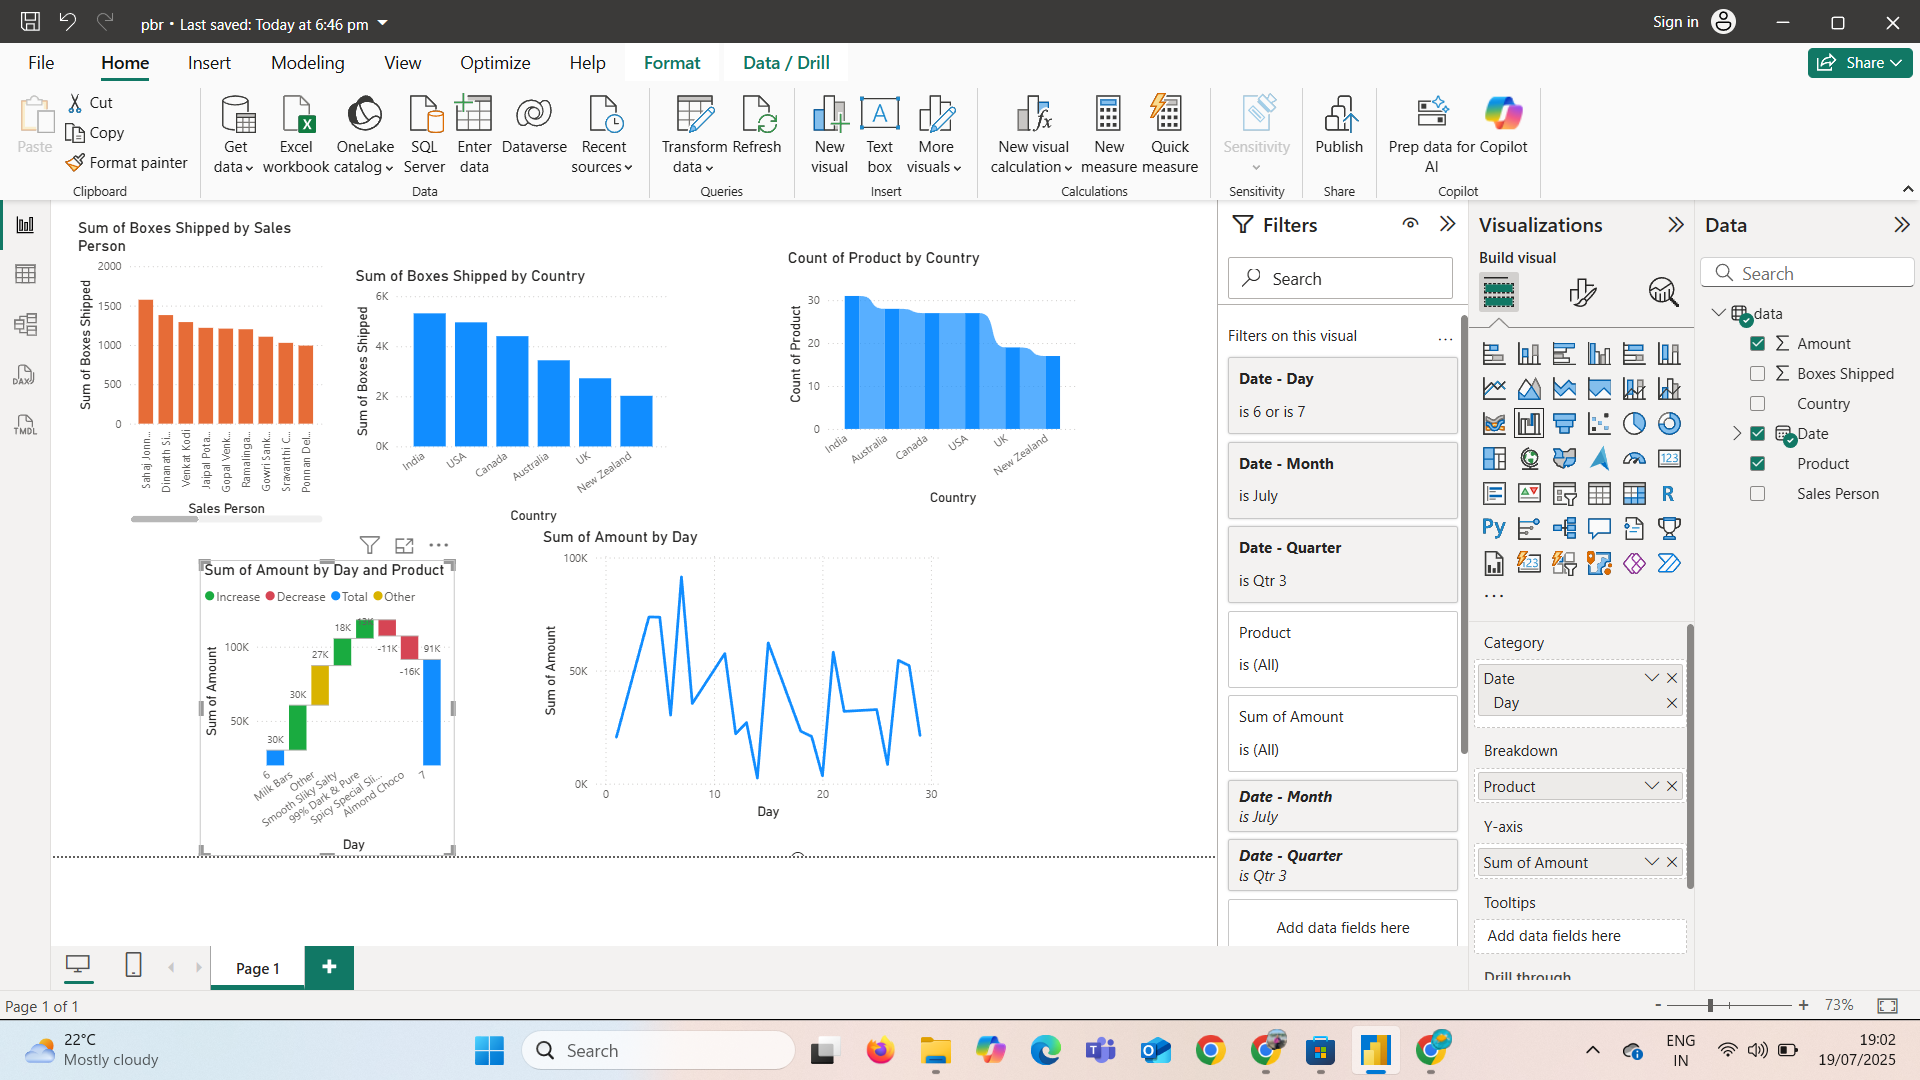

This screenshot's page, from the dashboard's own definition file:
{"tool":"powerbi","page":{"name":"Page 1","canvas":[1280,720],"ordinal":0},"visuals":[{"type":"columnChart","fields":{"Category":["data.Sales Person"],"Y":["Sum(data.Boxes Shipped)"]},"box":[24.7,20.6,278.6,338.9],"z":0},{"type":"columnChart","fields":{"Category":["data.Country"],"Y":["Sum(data.Boxes Shipped)"]},"box":[329.3,72.7,355.4,286.8],"z":1},{"type":"ribbonChart","fields":{"Category":["data.Country"],"Y":["CountNonNull(data.Product)"]},"box":[804.1,53.5,328,286.8],"z":2},{"type":"lineChart","box":[804.1,708.1,328,12.3],"z":3},{"type":"lineChart","fields":{"Category":["data.Date.Variation.Date Hierarchy.Year","data.Date.Variation.Date Hierarchy.Quarter","data.Date.Variation.Date Hierarchy.Month","data.Date.Variation.Date Hierarchy.Day"],"Y":["Sum(data.Amount)"]},"box":[535.2,359.5,446,325.2],"z":4},{"type":"waterfallChart","fields":{"Category":["data.Date.Variation.Date Hierarchy.Day"],"Breakdown":["data.Product"],"Y":["Sum(data.Amount)"]},"box":[25,360,279,325],"z":5}]}

Visuals, with their boxes on the page's 1280x720 design canvas (x1, y1, x2, y2). These are canvas units, not pixel positions in the 1920x1080 screenshot, which may show the page scaled, cropped or inside an application window:
columnChart - data.Sales Person x Sum(data.Boxes Shipped): bbox=(25, 21, 303, 360)
columnChart - data.Country x Sum(data.Boxes Shipped): bbox=(329, 73, 685, 360)
ribbonChart - data.Country x CountNonNull(data.Product): bbox=(804, 54, 1132, 340)
lineChart: bbox=(804, 708, 1132, 720)
lineChart - data.Date.Variation.Date Hierarchy.Year x data.Date.Variation.Date Hierarchy.Quarter: bbox=(535, 360, 981, 685)
waterfallChart - data.Date.Variation.Date Hierarchy.Day x data.Product: bbox=(25, 360, 304, 685)
